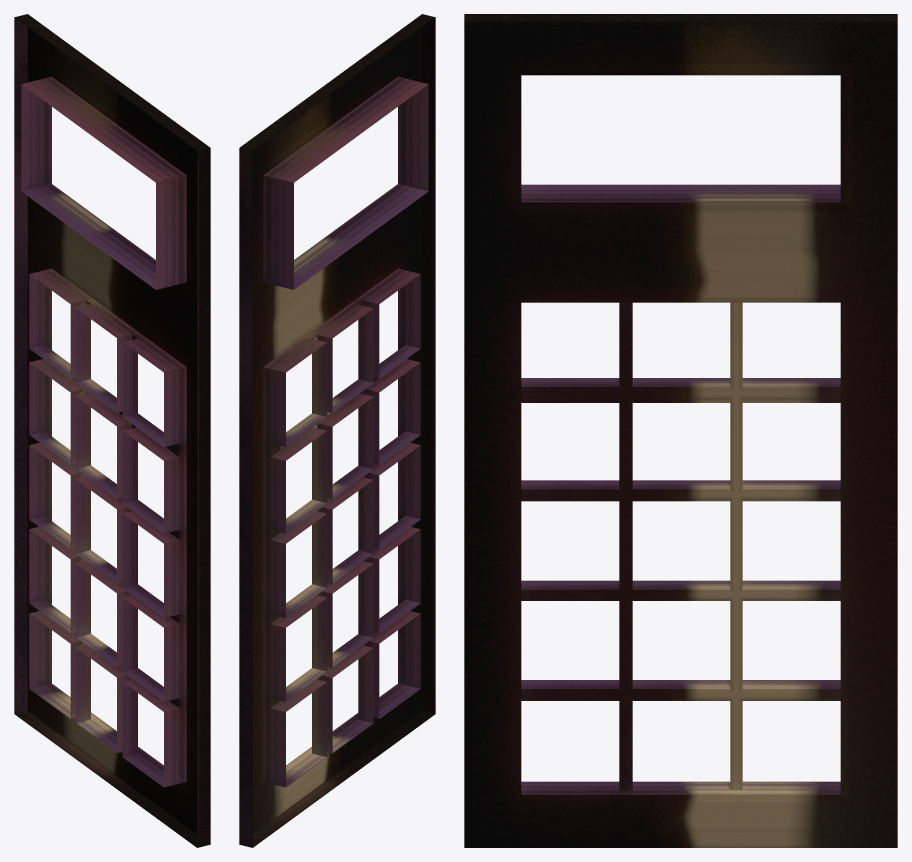
File: window1.obj
3 renders of one model, left to right at view 1: azimuth 30°, elevation 25°; view 2: azimuth 150°, elevation 25°; view 3: azimuth 270°, elevation 25°, orthographic. The views are drawn at different scales.
Visible parts, largest first — view 1: window1Baked BedroomBakedTriExport; view 2: window1Baked BedroomBakedTriExport; view 3: window1Baked BedroomBakedTriExport.
Part boxes in pixels (x1,y1,x2,y2): window1Baked BedroomBakedTriExport: (14, 14, 210, 847); window1Baked BedroomBakedTriExport: (239, 14, 435, 847); window1Baked BedroomBakedTriExport: (464, 14, 897, 847).
Bounding box in the file's own units: 0.1089 × 2.37 × 1.13.
